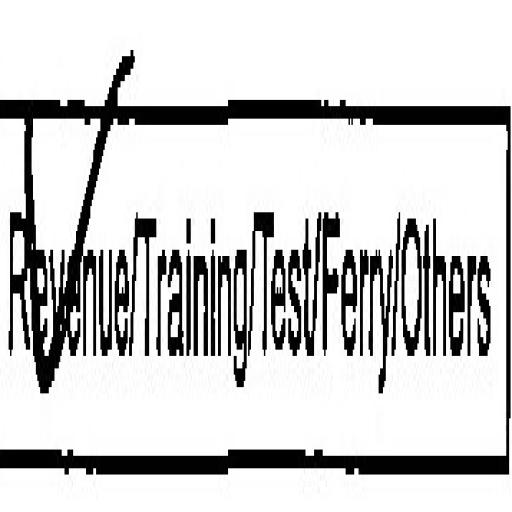check: (0, 2, 138, 512)
